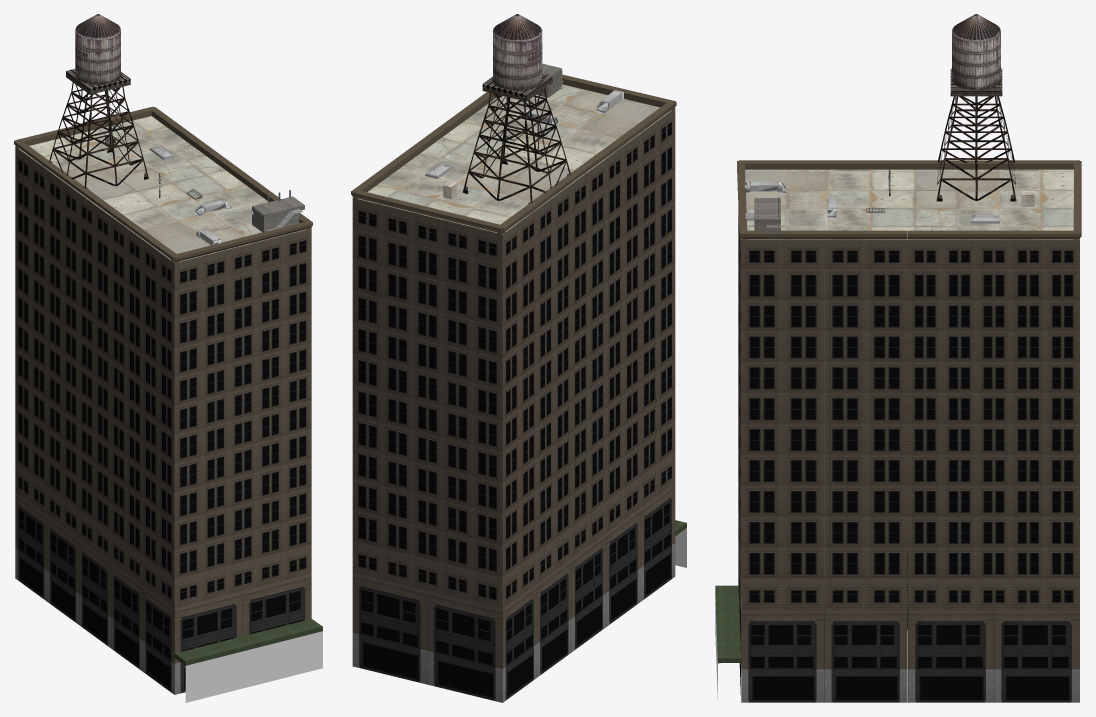
File: building10.gltf
3 views of the same model, side by side, from view 1: azimuth 30°, elevation 25°; view 2: azimuth 150°, elevation 25°; view 3: azimuth 270°, elevation 25° (orthographic). The views are drawn at different scales.
Visible parts, largest first — view 1: Object_122.001, Object_107.006, Object_81.025; view 2: Object_122.001, Object_107.006; view 3: Object_122.001, Object_107.006, Object_81.025.
Part boxes in pixels (<box>): Object_122.001: <box>14,106,322,702</box>; Object_107.006: <box>49,14,148,189</box>; Object_81.025: <box>252,190,304,232</box>; Object_122.001: <box>351,74,686,702</box>; Object_107.006: <box>462,14,570,203</box>; Object_122.001: <box>715,160,1081,702</box>; Object_107.006: <box>936,14,1016,201</box>; Object_81.025: <box>745,197,780,238</box>.
Size of the model in its own units: 15.37 by 61.54 by 32.24.
Materials: 16 (9 with a texture image).
